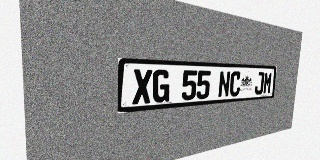5: (182, 70, 197, 101), (196, 70, 211, 99)
C: (229, 71, 241, 97)
G: (152, 69, 170, 103)
J: (254, 72, 265, 95)
M: (263, 72, 273, 94)
N: (218, 71, 231, 98)
X: (132, 69, 152, 105)
